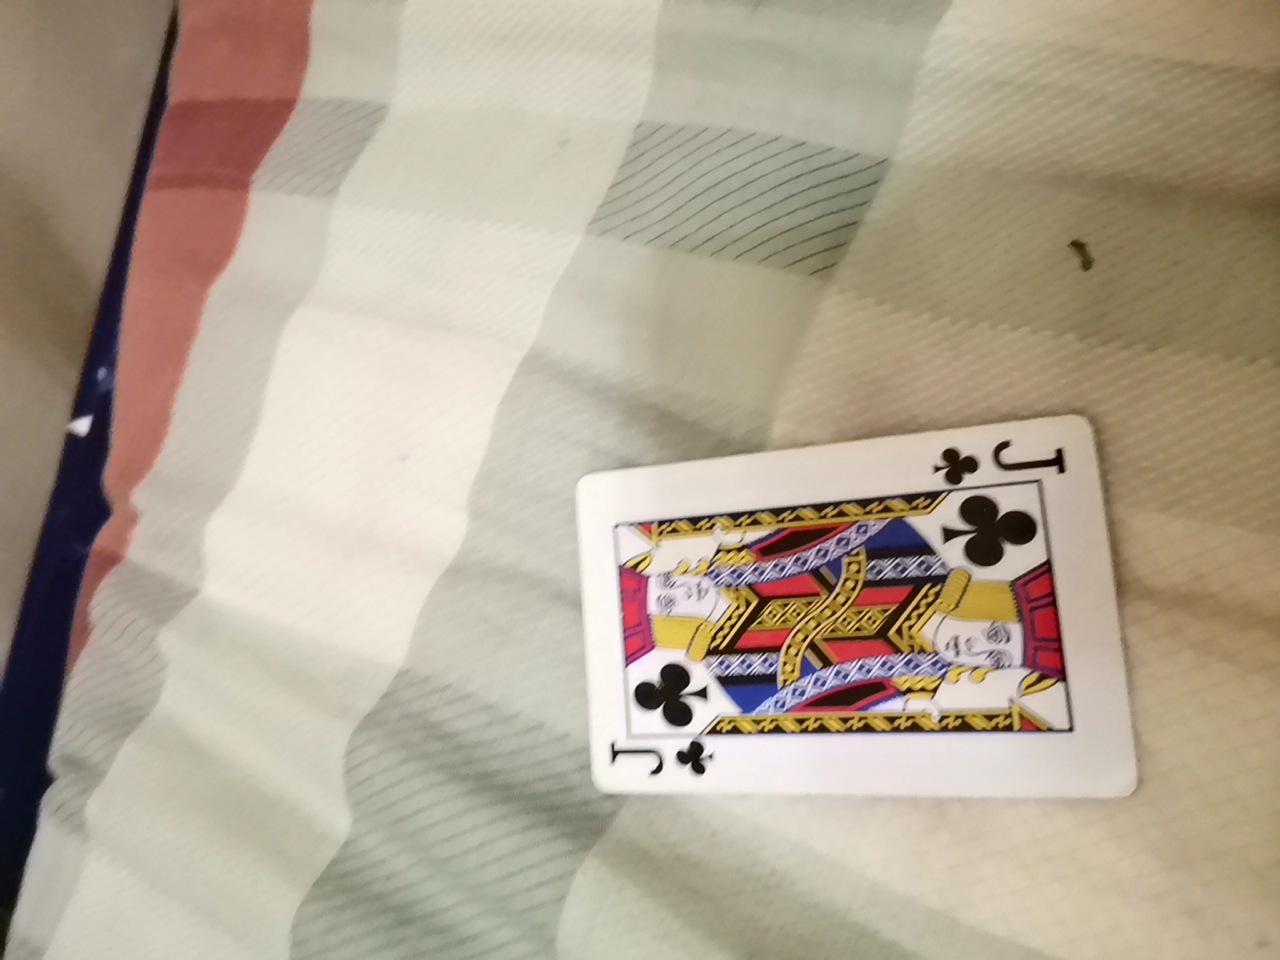mh j: (570, 416, 1131, 810)
